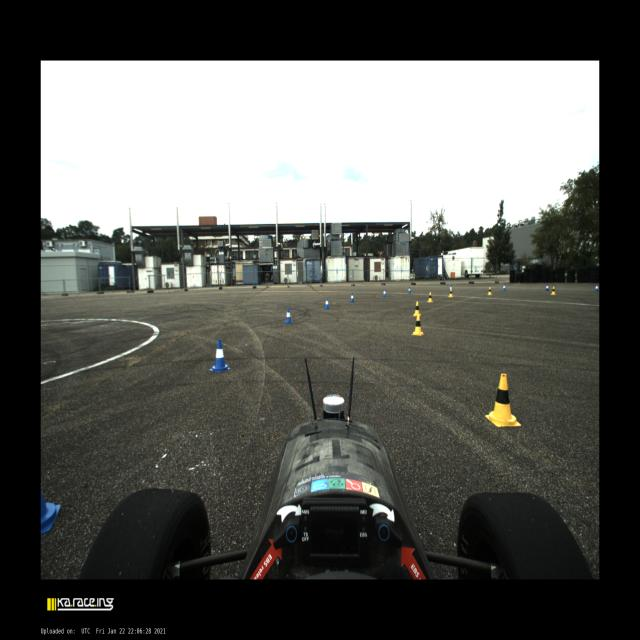blue_cone: (41, 487, 61, 535), (209, 339, 231, 373), (284, 307, 293, 324), (324, 298, 330, 309), (350, 292, 355, 303), (382, 289, 387, 297), (407, 286, 412, 294), (545, 283, 549, 291), (595, 284, 599, 292), (503, 284, 506, 290), (449, 284, 451, 292)
yellow_cone: (485, 374, 521, 426), (412, 315, 424, 336), (413, 302, 421, 316), (427, 292, 433, 302), (448, 289, 454, 297), (551, 286, 556, 295), (487, 287, 492, 295)
